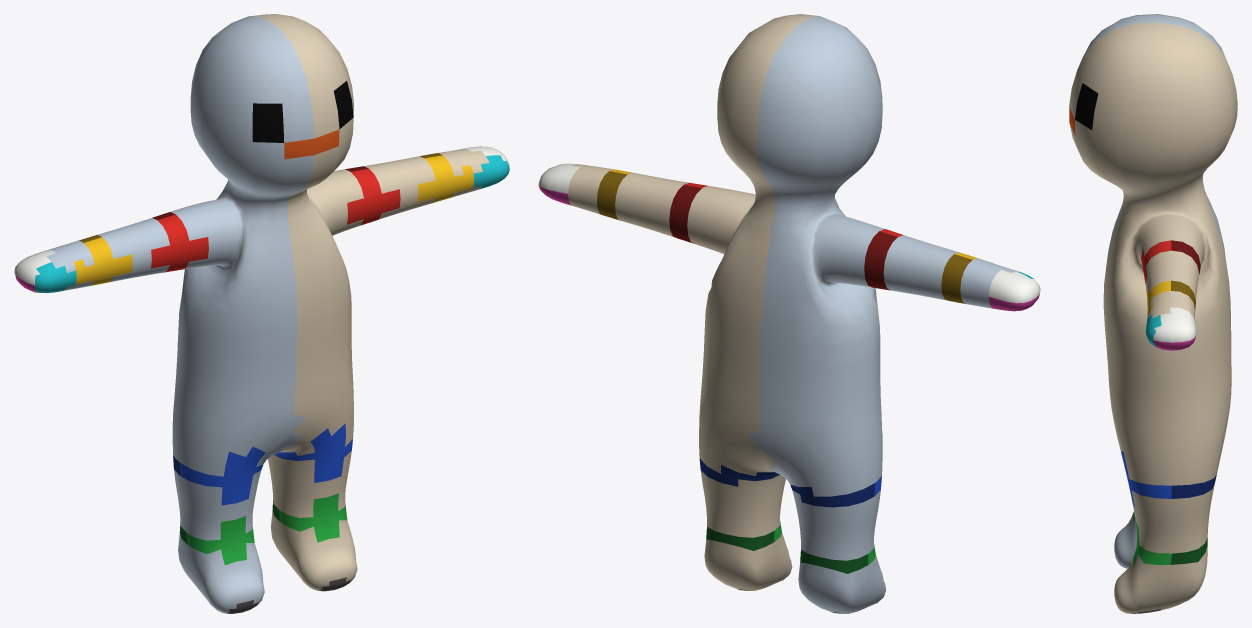
The model's file is mannequin-animal-tpose.fbx.
3 views of the same model, side by side, from view 1: azimuth 30°, elevation 25°; view 2: azimuth 150°, elevation 25°; view 3: azimuth 270°, elevation 25° (orthographic). The views are drawn at different scales.
Parts seen in each view (by area): view 1: MannequinTPose; view 2: MannequinTPose; view 3: MannequinTPose.
Boxes of the visible parts, left/top/right/bottom form: MannequinTPose: left=14, top=14, right=509, bottom=613; MannequinTPose: left=538, top=14, right=1040, bottom=613; MannequinTPose: left=1069, top=14, right=1237, bottom=613.
Bounding box in the file's own units: 142 × 160 × 43.16.
1 material, 1 textured.
